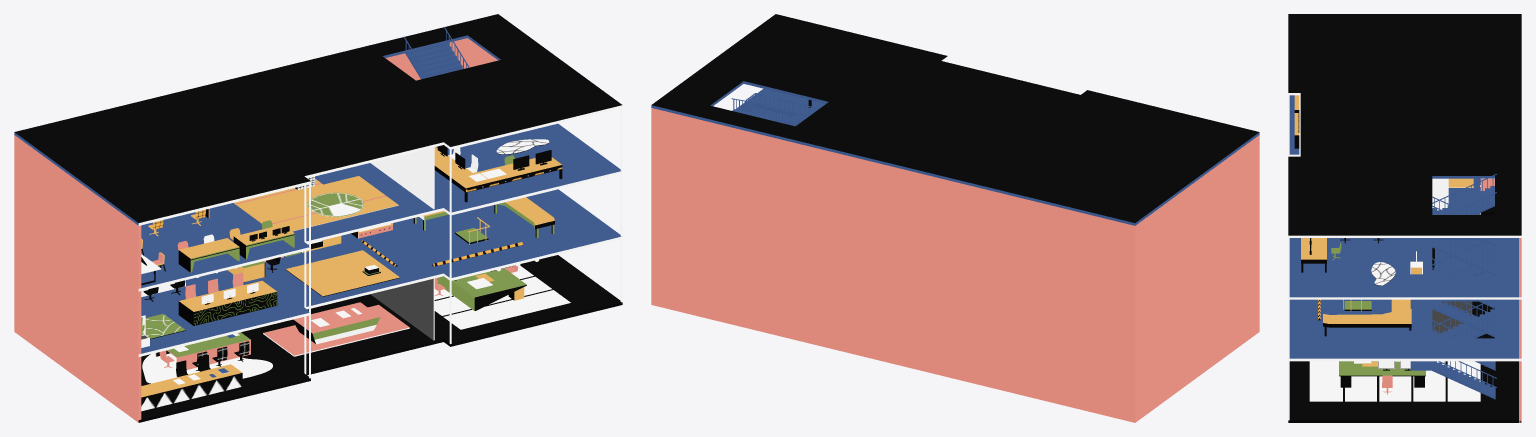
File: 右学校.fbx
3 views of the same model, side by side, from view 1: azimuth 30°, elevation 25°; view 2: azimuth 150°, elevation 25°; view 3: azimuth 270°, elevation 25° (orthographic). The views are drawn at different scales.
Parts seen in each view (by area): view 1: 右学校, 地板02_5_2, 地板02_1_2, 地板02_2, 立方体_7_2, 立方体_5_3, 地板02_5, 立方体_8_4, 立方体_1_6, 倒梯形桌子, 立方体_7_4, 地板02_2_2 (+9 smaller); view 2: 右学校, stairs2_2; view 3: 右学校, 地板02_1_2, stairs2_2, stairs2_1, stairs2, 地板02_6, 桌子01, 地板02_5, 立方体_8_4, 立方体_7_4, 立方体_1_6, 封顶_1_2 (+2 smaller).
Part boxes in pixels (x1,y1,x2,y2): 右学校: [14, 14, 622, 422]; 地板02_5_2: [233, 176, 398, 231]; 地板02_1_2: [434, 265, 570, 330]; 地板02_2: [285, 250, 400, 296]; 立方体_7_2: [141, 364, 242, 411]; 立方体_5_3: [178, 280, 277, 325]; 地板02_5: [434, 147, 562, 202]; 立方体_8_4: [370, 278, 434, 340]; 立方体_1_6: [371, 147, 434, 209]; 倒梯形桌子: [293, 302, 380, 344]; 立方体_7_4: [304, 108, 622, 378]; 地板02_2_2: [263, 304, 409, 356]; 右学校: [651, 14, 1259, 422]; stairs2_2: [731, 93, 819, 126]; 右学校: [1288, 14, 1521, 422]; 地板02_1_2: [1309, 361, 1480, 401]; stairs2_2: [1410, 174, 1496, 275]; stairs2_1: [1410, 299, 1496, 399]; stairs2: [1410, 238, 1496, 337]; 地板02_6: [1323, 299, 1411, 336]; 桌子01: [1339, 361, 1425, 376]; 地板02_5: [1301, 238, 1326, 272]; 立方体_8_4: [1432, 301, 1472, 333]; 立方体_7_4: [1288, 94, 1300, 420]; 立方体_1_6: [1432, 178, 1448, 210]; 封顶_1_2: [1371, 262, 1395, 285].
Size of the model in its own units: 2703 by 1138 by 1204.
